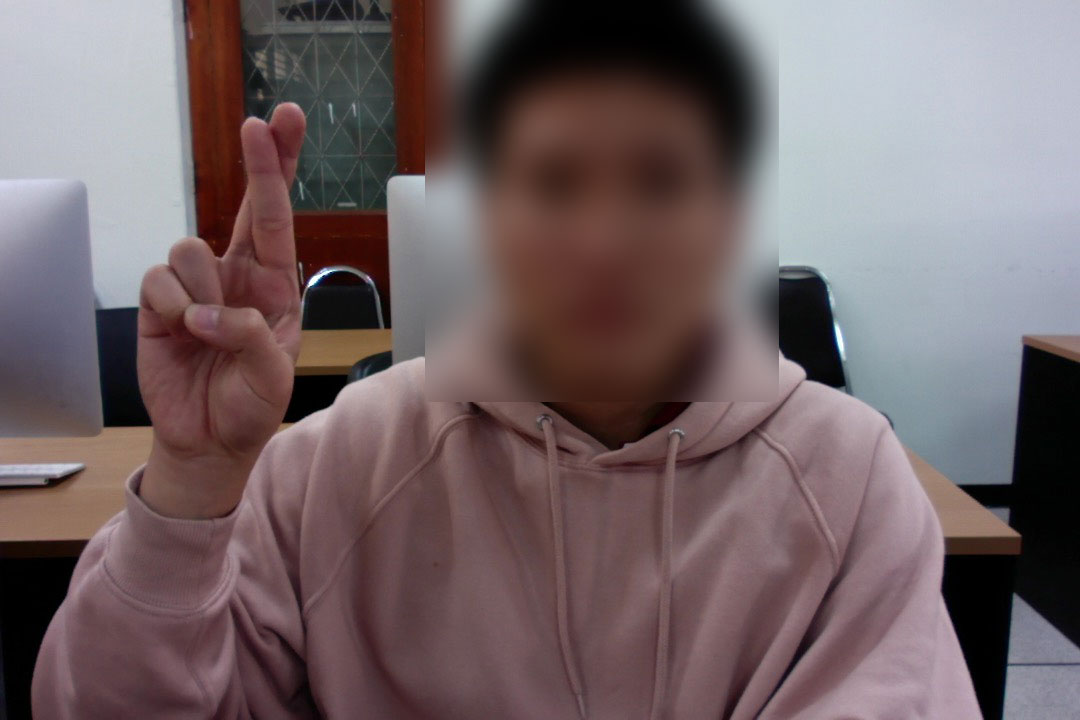rao: (110, 88, 323, 443)
